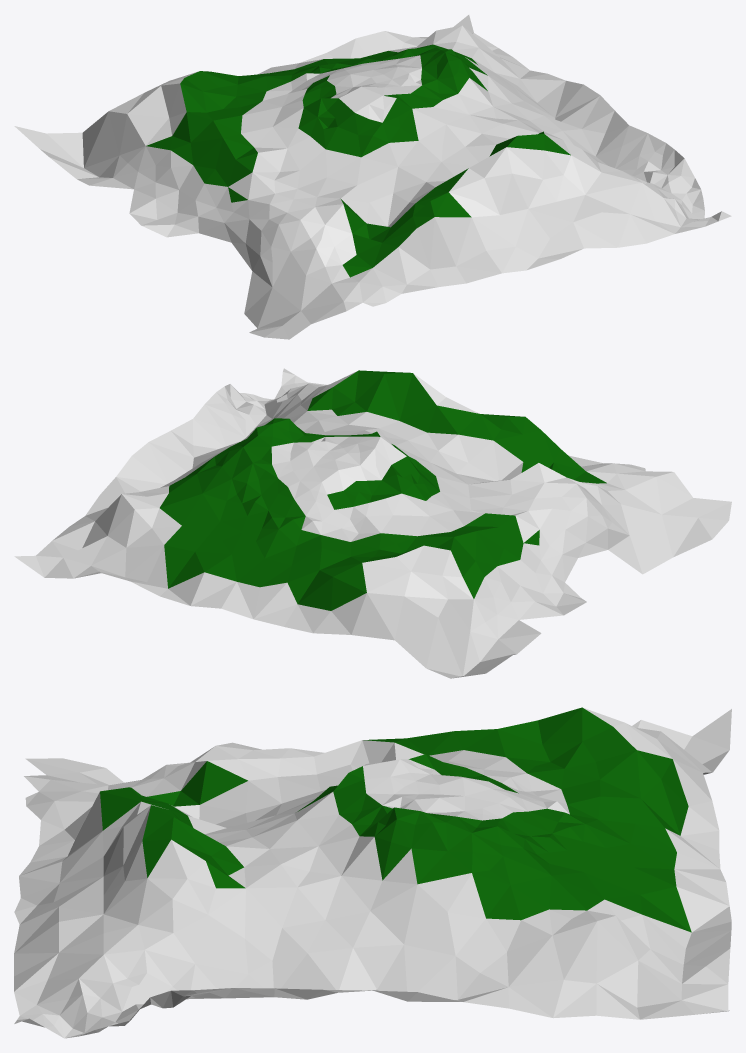
File: terrain-simple-01.fbx
The picture shows the model from 3 angles, top to bottom: view 1: azimuth 30°, elevation 25°; view 2: azimuth 150°, elevation 25°; view 3: azimuth 270°, elevation 25°; orthographic projection. The views are drawn at different scales.
Visible parts, largest first — view 1: Plane; view 2: Plane; view 3: Plane.
Boxes of the visible parts, x1,y1,x2,y2 form: Plane: (14,15,731,339); Plane: (14,368,731,678); Plane: (14,707,731,1038).
Bounding box in the file's own units: 20254 × 5696 × 19999.
